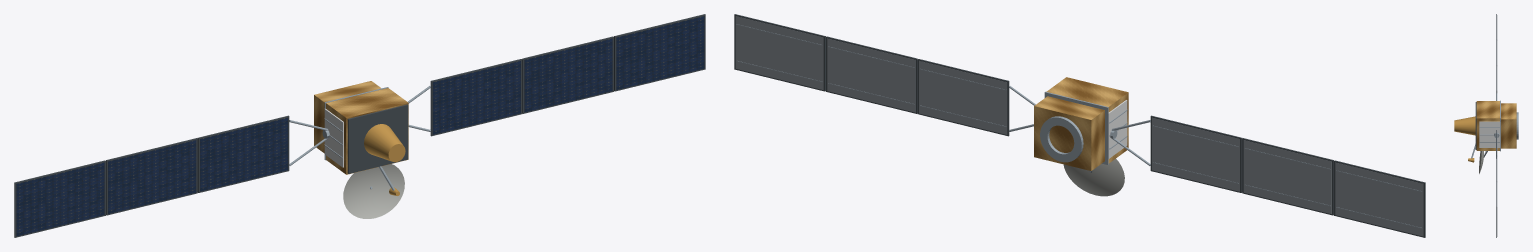
The model's file is as5000-astra.glb.
3 renders of one model, left to right at view 1: azimuth 30°, elevation 25°; view 2: azimuth 150°, elevation 25°; view 3: azimuth 270°, elevation 25°, orthographic. The views are drawn at different scales.
Parts seen in each view (by area): view 1: Solar cell panel (×6), Solar panel frame (×6), Communications reflector, Earth-facing deck, Payload module, Service module, Axial antenna horn, Radiator face; view 2: Rear array substrate (×6), Solar panel frame (×6), Service module, Payload module, Communications reflector, Launch adapter ring, Radiator face, Module interface; view 3: Service module, Payload module, Radiator face, Axial antenna horn, Earth-facing deck, Launch adapter ring, Communications reflector, Solar panel frame, Rear array substrate, Module interface.
Part boxes in pixels (left/top/right/bottom): Solar cell panel (×6): left=16, top=16, right=704, bottom=236; Solar panel frame (×6): left=14, top=14, right=705, bottom=237; Communications reflector: left=343, top=164, right=404, bottom=218; Earth-facing deck: left=347, top=104, right=408, bottom=173; Payload module: left=326, top=88, right=408, bottom=174; Service module: left=314, top=81, right=380, bottom=153; Axial antenna horn: left=364, top=124, right=405, bottom=162; Radiator face: left=324, top=109, right=343, bottom=167; Rear array substrate (×6): left=735, top=16, right=1423, bottom=236; Solar panel frame (×6): left=734, top=14, right=1425, bottom=237; Service module: left=1034, top=96, right=1104, bottom=170; Payload module: left=1046, top=77, right=1128, bottom=163; Communications reflector: left=1063, top=159, right=1124, bottom=196; Launch adapter ring: left=1040, top=116, right=1083, bottom=162; Radiator face: left=1108, top=100, right=1127, bottom=158; Module interface: left=1044, top=91, right=1108, bottom=164; Service module: left=1501, top=103, right=1516, bottom=148; Payload module: left=1476, top=101, right=1499, bottom=150; Radiator face: left=1479, top=121, right=1500, bottom=147; Axial antenna horn: left=1454, top=116, right=1475, bottom=135; Earth-facing deck: left=1475, top=102, right=1476, bottom=149; Launch adapter ring: left=1516, top=112, right=1518, bottom=139; Communications reflector: left=1479, top=151, right=1483, bottom=173; Solar panel frame: left=1496, top=181, right=1496, bottom=237; Rear array substrate: left=1497, top=182, right=1497, bottom=236; Module interface: left=1500, top=100, right=1500, bottom=151.
Size of the model in its own units: 24.37 by 3.69 by 3.43.
Materials: 8 (2 with a texture image).
